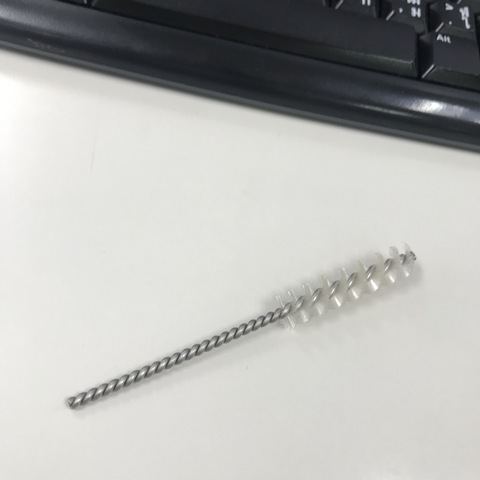Twist Brush-B: (62, 240, 424, 410)
